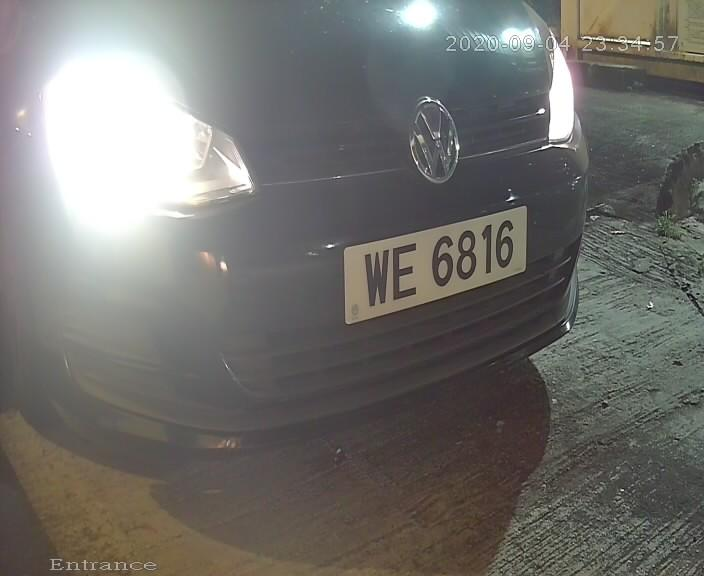License Plate: (322, 188, 545, 333)
